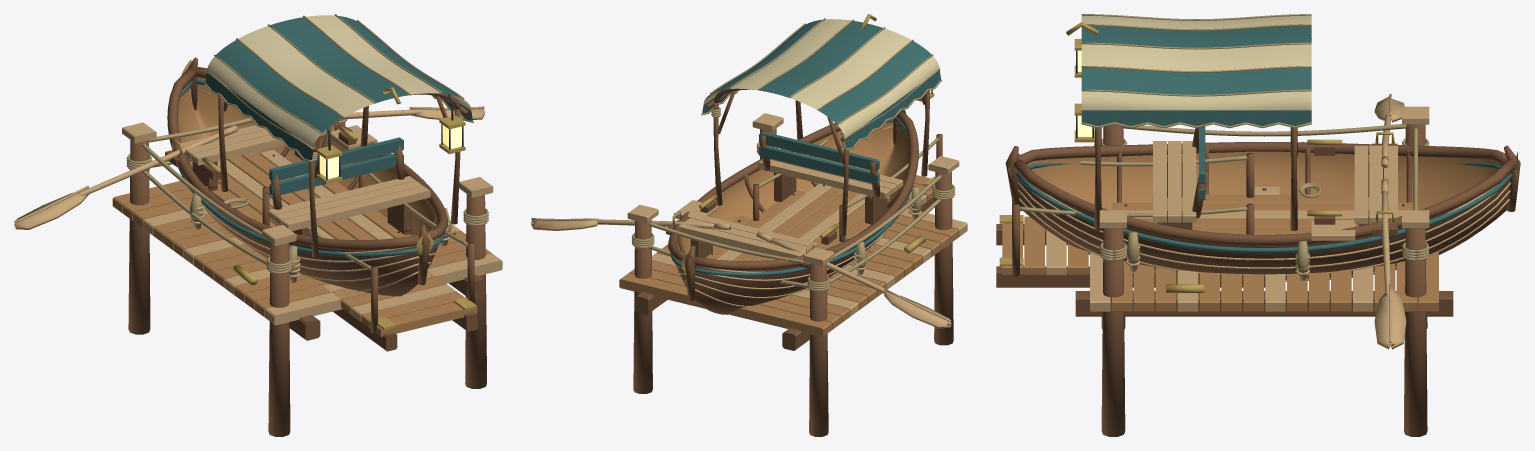
Rendered from reed-ferry.glb.
3 views of the same model, side by side, from view 1: azimuth 30°, elevation 25°; view 2: azimuth 150°, elevation 25°; view 3: azimuth 270°, elevation 25° (orthographic). The views are drawn at different scales.
Visible parts, largest first — view 1: FERRY_Reed_mahogany, FERRY_Reed_teal, LANDING_Reed_mahogany, FERRY_Reed_pale, FERRY_Reed_cream, FERRY_Reed_cedar, LANDING_Reed_cedar, LANDING_Reed_pale, FERRY_Reed_rope, GANGWAY_Reed_cedar, LANDING_Reed_rope, GANGWAY_Reed_mahogany (+6 smaller); view 2: FERRY_Reed_mahogany, FERRY_Reed_teal, LANDING_Reed_mahogany, LANDING_Reed_cedar, FERRY_Reed_cedar, FERRY_Reed_pale, FERRY_Reed_cream, LANDING_Reed_pale, LANDING_Reed_rope, FERRY_Reed_rope, oar_left_pale, oar_right_pale (+2 smaller); view 3: FERRY_Reed_mahogany, FERRY_Reed_cedar, FERRY_Reed_teal, FERRY_Reed_pale, LANDING_Reed_mahogany, FERRY_Reed_cream, LANDING_Reed_cedar, LANDING_Reed_pale, FERRY_Reed_rope, GANGWAY_Reed_mahogany, LANDING_Reed_rope, GANGWAY_Reed_cedar (+5 smaller).
Part boxes in pixels (x1,y1,x2,y2): FERRY_Reed_mahogany: (165,57,468,296); FERRY_Reed_teal: (178,16,472,257); LANDING_Reed_mahogany: (128,122,486,436); FERRY_Reed_pale: (179,77,450,291); FERRY_Reed_cream: (207,15,471,147); FERRY_Reed_cedar: (178,77,437,253); LANDING_Reed_cedar: (112,181,491,317); LANDING_Reed_pale: (122,122,502,325); FERRY_Reed_rope: (189,14,473,282); GANGWAY_Reed_cedar: (314,270,477,337); LANDING_Reed_rope: (126,118,488,274); GANGWAY_Reed_mahogany: (262,174,477,351); FERRY_Reed_mahogany: (666,88,929,314); FERRY_Reed_teal: (670,19,940,276); LANDING_Reed_mahogany: (633,128,953,436); LANDING_Reed_cedar: (619,215,958,337); FERRY_Reed_cedar: (677,121,909,260); FERRY_Reed_pale: (674,125,921,307); FERRY_Reed_cream: (703,19,939,137); LANDING_Reed_pale: (627,113,967,316); LANDING_Reed_rope: (631,142,955,291); FERRY_Reed_rope: (696,18,941,274); oar_left_pale: (756,231,951,328); oar_right_pale: (531,218,730,230); FERRY_Reed_mahogany: (1005,127,1520,281); FERRY_Reed_cedar: (1027,151,1501,234); FERRY_Reed_teal: (1016,25,1512,253); FERRY_Reed_pale: (1017,141,1510,281); LANDING_Reed_mahogany: (1075,124,1453,436); FERRY_Reed_cream: (1081,15,1311,110); LANDING_Reed_cedar: (1112,252,1438,311); LANDING_Reed_pale: (1090,106,1429,311); FERRY_Reed_rope: (1081,14,1321,280); GANGWAY_Reed_mahogany: (996,153,1265,287); LANDING_Reed_rope: (1099,124,1429,261); GANGWAY_Reed_cedar: (1002,216,1088,275).
Bounding box in the file's own units: 5.34 × 3.61 × 4.79.
